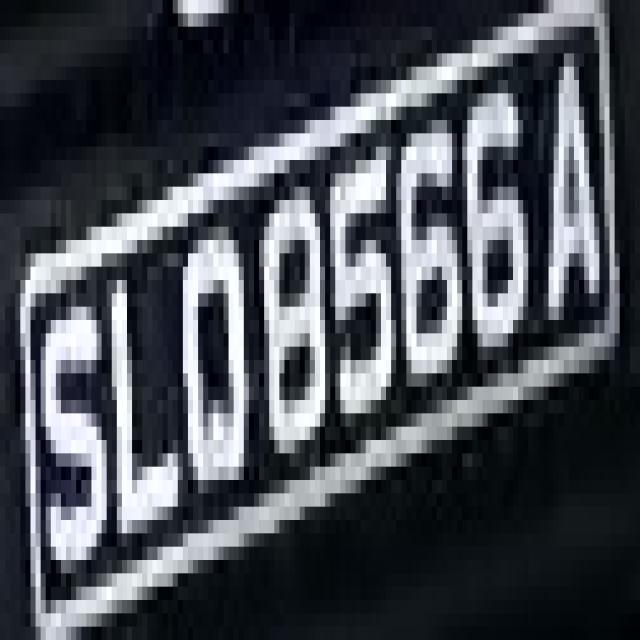5: (305, 133, 401, 467)
6: (386, 93, 462, 400), (457, 66, 528, 386)
8: (249, 160, 335, 493)
A: (528, 53, 604, 347)
L: (96, 240, 183, 573)
Q: (168, 214, 259, 534)
S: (30, 253, 106, 600)
